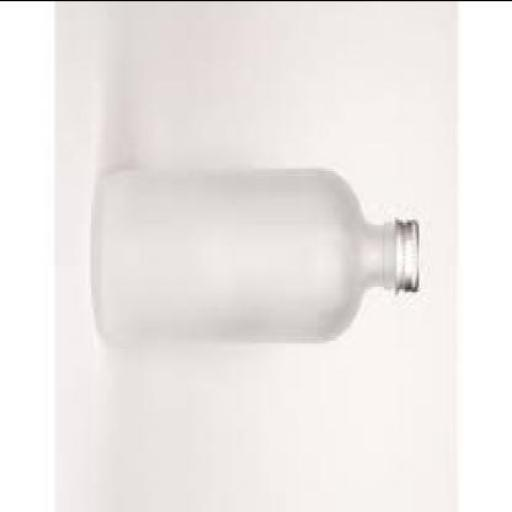glass: (91, 172, 399, 347)
metal: (399, 219, 423, 293)
